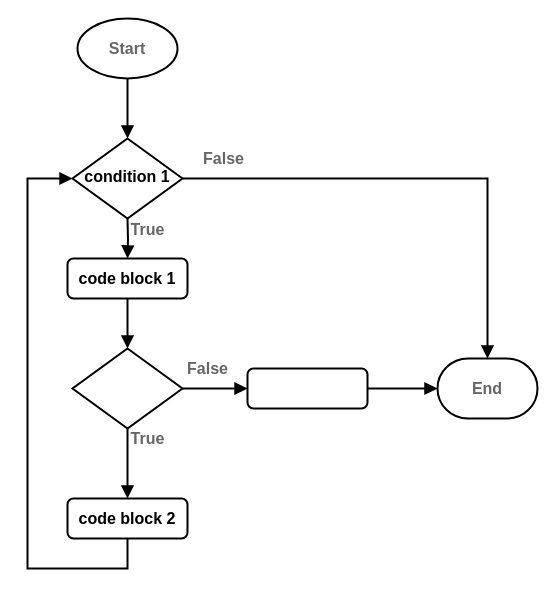
The diagram is 555 pixels wide and 596 high, and some of its shapes have lost their labels. Each missing label, with the centre of its shape:
break: (307,388)
condition 2: (127,388)
